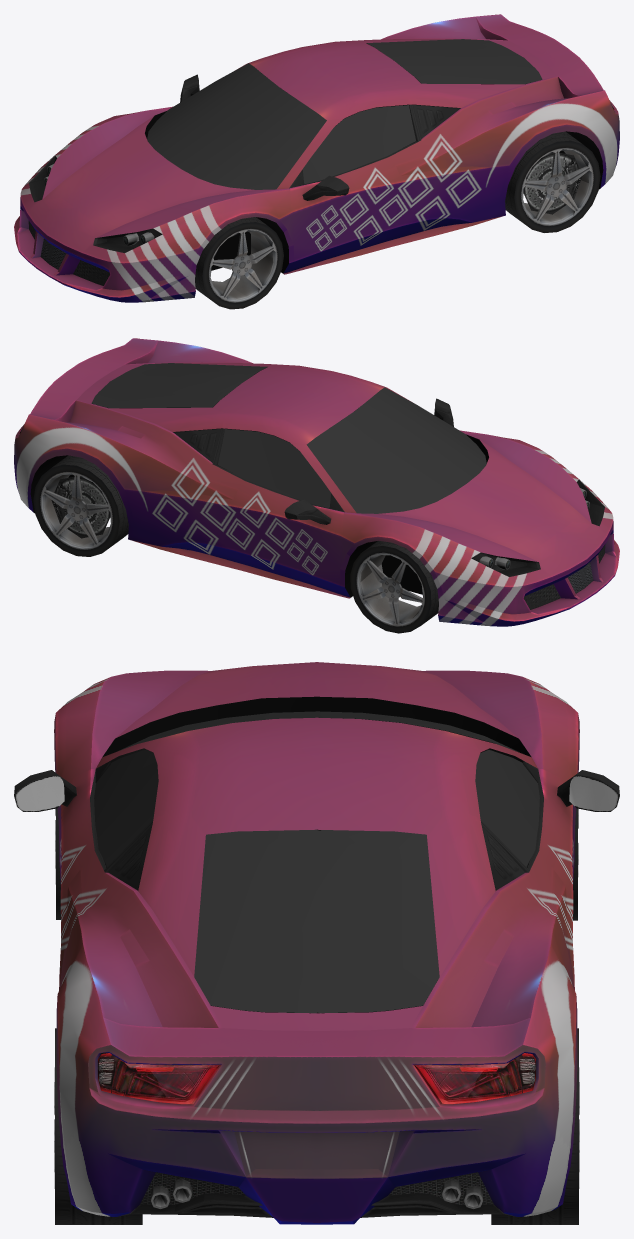
Rendered from car_6.FBX.
3 renders of one model, top to bottom at view 1: azimuth 30°, elevation 25°; view 2: azimuth 150°, elevation 25°; view 3: azimuth 270°, elevation 25°, orthographic. The views are drawn at different scales.
Visible parts, largest first — view 1: car_6; view 2: car_6; view 3: car_6.
Boxes of the visible parts, <box> form: car_6: <box>14,14,619,309</box>; car_6: <box>14,338,619,633</box>; car_6: <box>14,662,619,1224</box>.
Size of the model in its own units: 68.12 by 18.37 by 33.08.
